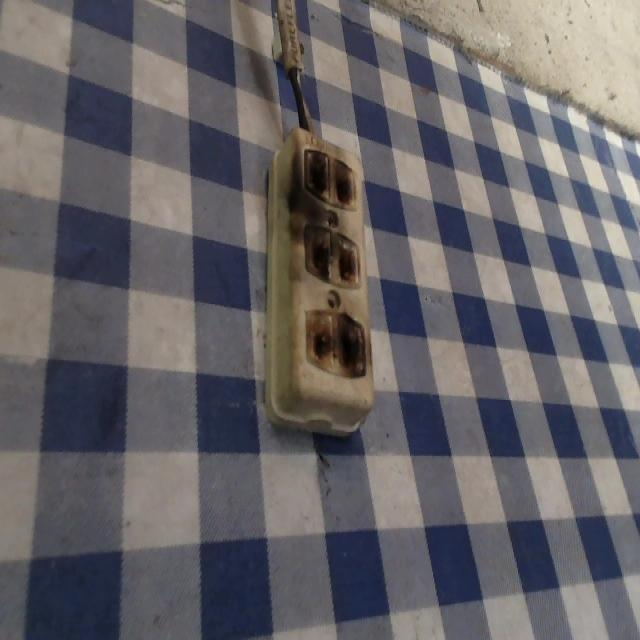-: (305, 304, 367, 379), (300, 221, 361, 288), (300, 147, 357, 213)
